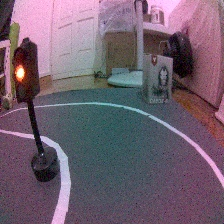amber: (10, 36, 64, 181)
